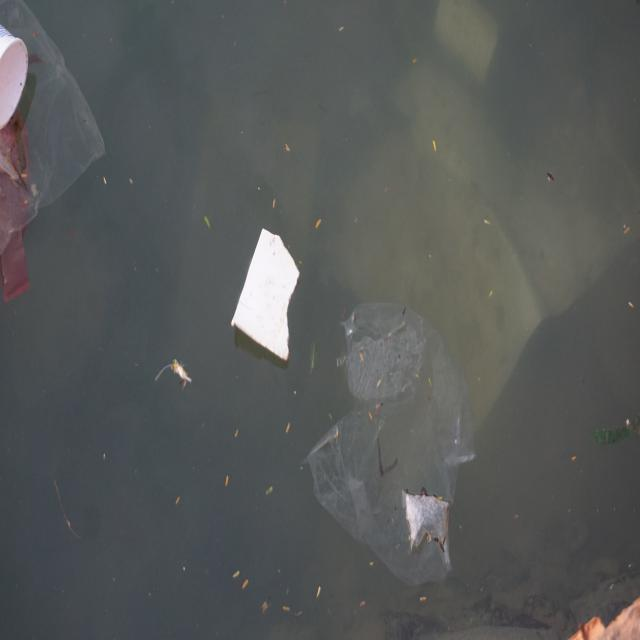Bungkus Makanan: (1, 25, 31, 129)
Kantong Plastik: (309, 288, 472, 582), (2, 1, 105, 303)
